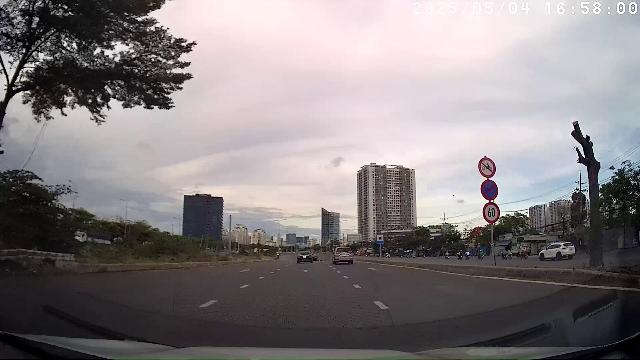127-toc-do-toi-da-60: (482, 202, 500, 224)
130-cam-dung-va-do-xe: (480, 180, 498, 200)
